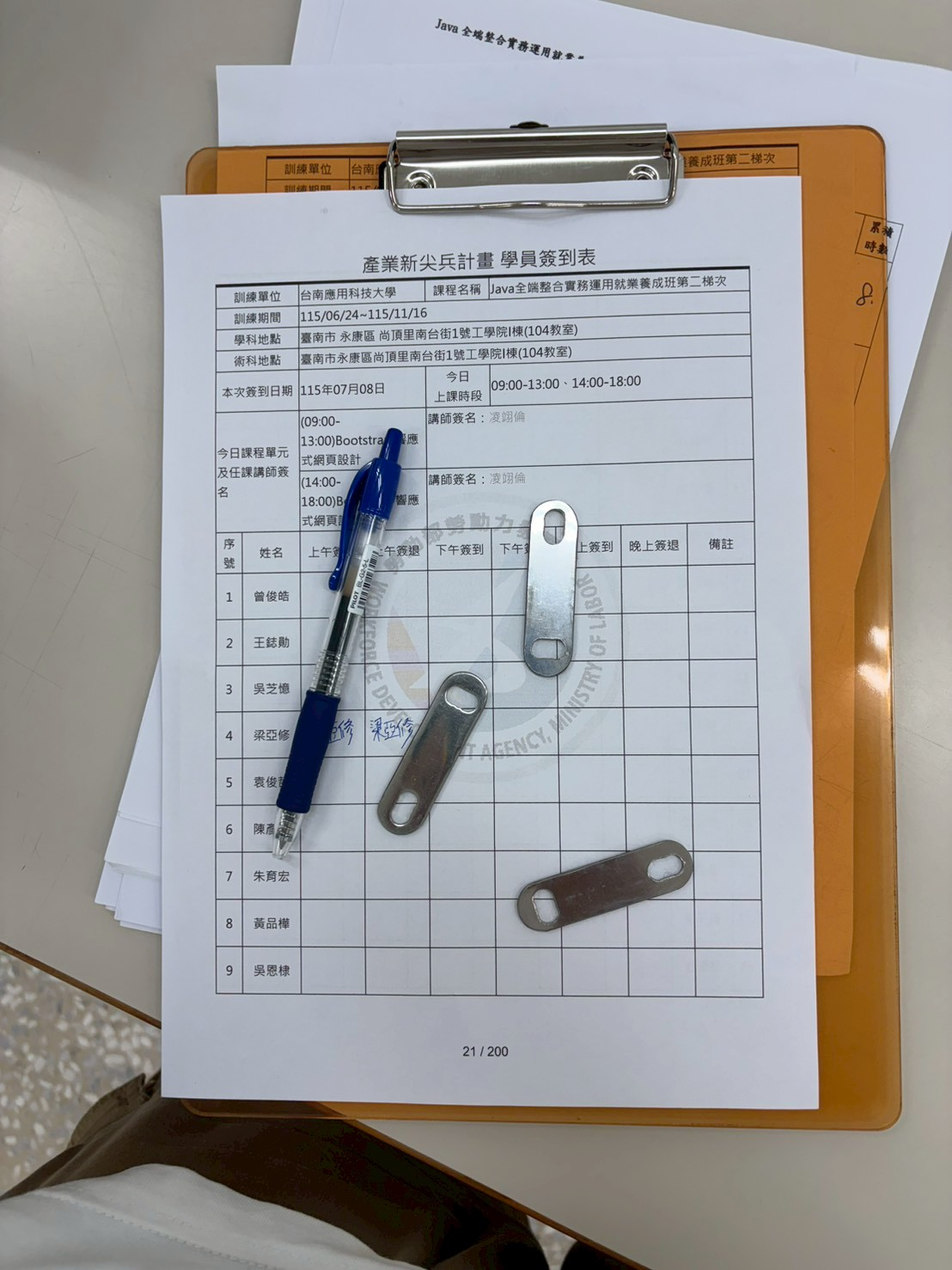Fe: (508, 827, 694, 939), (363, 675, 492, 831), (522, 499, 577, 677)
